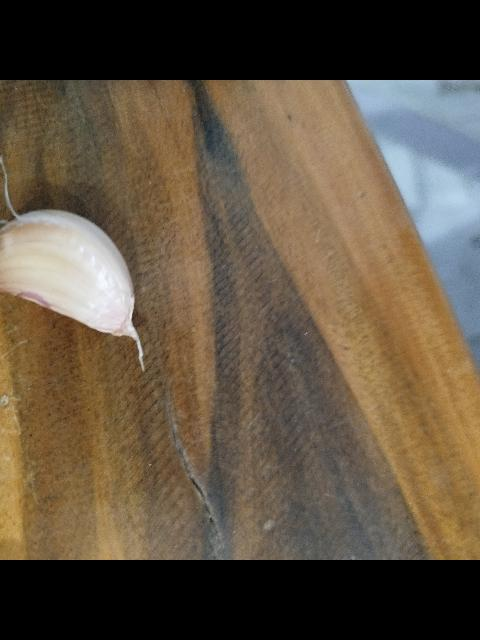garlic: (0, 155, 145, 372)
